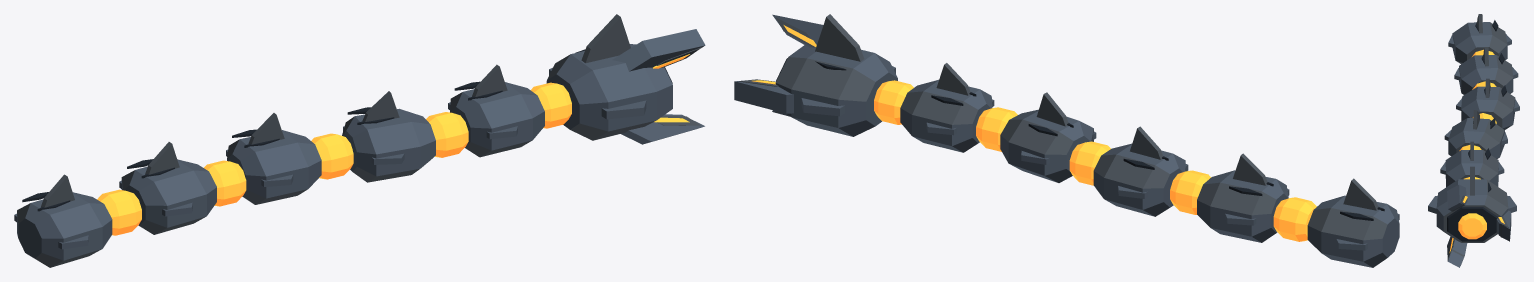
File: devorador.glb
3 renders of one model, left to right at view 1: azimuth 30°, elevation 25°; view 2: azimuth 150°, elevation 25°; view 3: azimuth 270°, elevation 25°, orthographic. The views are drawn at different scales.
Visible parts, largest first — view 1: DEV_HEAD_ARMOR, DEV_SEGMENT_ARMOR.004, DEV_SEGMENT_ARMOR.001, DEV_SEGMENT_ARMOR, DEV_SEGMENT_ARMOR.002, DEV_SEGMENT_ARMOR.003, DEV_JAW_ARMOR_1, DEV_JOINT_ENERGY.001, DEV_JOINT_ENERGY.002, DEV_JOINT_ENERGY.004, DEV_JOINT_ENERGY.003, DEV_JAW_ARMOR_2 (+1 smaller); view 2: DEV_HEAD_ARMOR, DEV_SEGMENT_ARMOR.004, DEV_SEGMENT_ARMOR.003, DEV_SEGMENT_ARMOR.002, DEV_SEGMENT_ARMOR, DEV_SEGMENT_ARMOR.001, DEV_JAW_ARMOR_0, DEV_JOINT_ENERGY.004, DEV_JOINT_ENERGY.003, DEV_JOINT_ENERGY, DEV_JOINT_ENERGY.001, DEV_JOINT_ENERGY.002 (+1 smaller); view 3: DEV_HEAD_ARMOR, DEV_SEGMENT_ARMOR.004, DEV_SEGMENT_ARMOR.002, DEV_SEGMENT_ARMOR.001, DEV_SEGMENT_ARMOR.003, DEV_SEGMENT_ARMOR, DEV_REACTOR, DEV_JAW_ARMOR_2, DEV_JAW_ARMOR_1, DEV_JAW_ARMOR_0, DEV_JOINT_ENERGY.002, DEV_JOINT_ENERGY.003 (+2 smaller).
Part boxes in pixels (bbox=[...]): DEV_HEAD_ARMOR: bbox=[546, 14, 672, 140]; DEV_SEGMENT_ARMOR.004: bbox=[14, 174, 112, 267]; DEV_SEGMENT_ARMOR.001: bbox=[342, 91, 435, 182]; DEV_SEGMENT_ARMOR: bbox=[448, 64, 544, 157]; DEV_SEGMENT_ARMOR.002: bbox=[226, 113, 321, 204]; DEV_SEGMENT_ARMOR.003: bbox=[119, 142, 216, 234]; DEV_JAW_ARMOR_1: bbox=[612, 29, 705, 71]; DEV_JOINT_ENERGY.001: bbox=[426, 112, 468, 157]; DEV_JOINT_ENERGY.002: bbox=[311, 133, 353, 179]; DEV_JOINT_ENERGY.004: bbox=[97, 189, 141, 235]; DEV_JOINT_ENERGY.003: bbox=[204, 160, 246, 206]; DEV_JAW_ARMOR_2: bbox=[621, 114, 704, 144]; DEV_HEAD_ARMOR: bbox=[775, 14, 897, 136]; DEV_SEGMENT_ARMOR.004: bbox=[1307, 178, 1399, 267]; DEV_SEGMENT_ARMOR.003: bbox=[1197, 153, 1289, 242]; DEV_SEGMENT_ARMOR.002: bbox=[1093, 126, 1188, 216]; DEV_SEGMENT_ARMOR: bbox=[900, 63, 994, 152]; DEV_SEGMENT_ARMOR.001: bbox=[1000, 92, 1096, 182]; DEV_JAW_ARMOR_0: bbox=[734, 79, 793, 113]; DEV_JOINT_ENERGY.004: bbox=[1273, 197, 1316, 241]; DEV_JOINT_ENERGY.003: bbox=[1170, 170, 1210, 214]; DEV_JOINT_ENERGY: bbox=[874, 80, 913, 124]; DEV_JOINT_ENERGY.001: bbox=[976, 107, 1017, 151]; DEV_JOINT_ENERGY.002: bbox=[1069, 141, 1110, 185]; DEV_HEAD_ARMOR: bbox=[1428, 166, 1516, 242]; DEV_SEGMENT_ARMOR.004: bbox=[1448, 14, 1511, 64]; DEV_SEGMENT_ARMOR.002: bbox=[1456, 78, 1519, 129]; DEV_SEGMENT_ARMOR.001: bbox=[1444, 110, 1507, 158]; DEV_SEGMENT_ARMOR.003: bbox=[1454, 47, 1518, 94]; DEV_SEGMENT_ARMOR: bbox=[1440, 141, 1504, 187]; DEV_REACTOR: bbox=[1458, 213, 1486, 239]; DEV_JAW_ARMOR_2: bbox=[1447, 236, 1467, 267]; DEV_JAW_ARMOR_1: bbox=[1447, 184, 1467, 211]; DEV_JAW_ARMOR_0: bbox=[1496, 210, 1511, 241]; DEV_JOINT_ENERGY.002: bbox=[1472, 113, 1496, 123]; DEV_JOINT_ENERGY.003: bbox=[1472, 81, 1496, 89].
Size of the model in its own units: 10.22 by 1.87 by 1.92.
